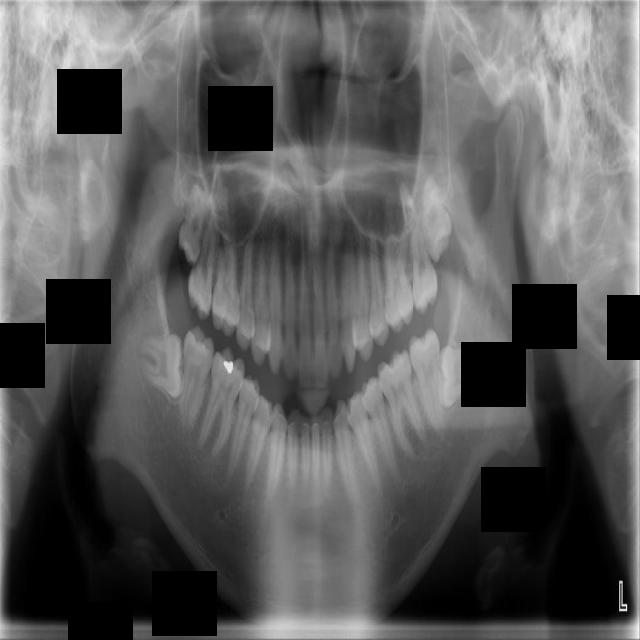3M ESPE Implant: (175, 182, 210, 265)
52: (201, 343, 259, 399)
73: (576, 576, 582, 576)
BioHorizons Implant: (399, 180, 441, 315)
BioLife Implant: (415, 174, 457, 264)
Biomet 3i Implant: (439, 343, 479, 408)
Blue Sky Bio Implant: (409, 328, 444, 438)
Caries: (185, 202, 220, 321)
Implant: (177, 325, 216, 427)
Keystone Dental Implant: (139, 333, 184, 398)
